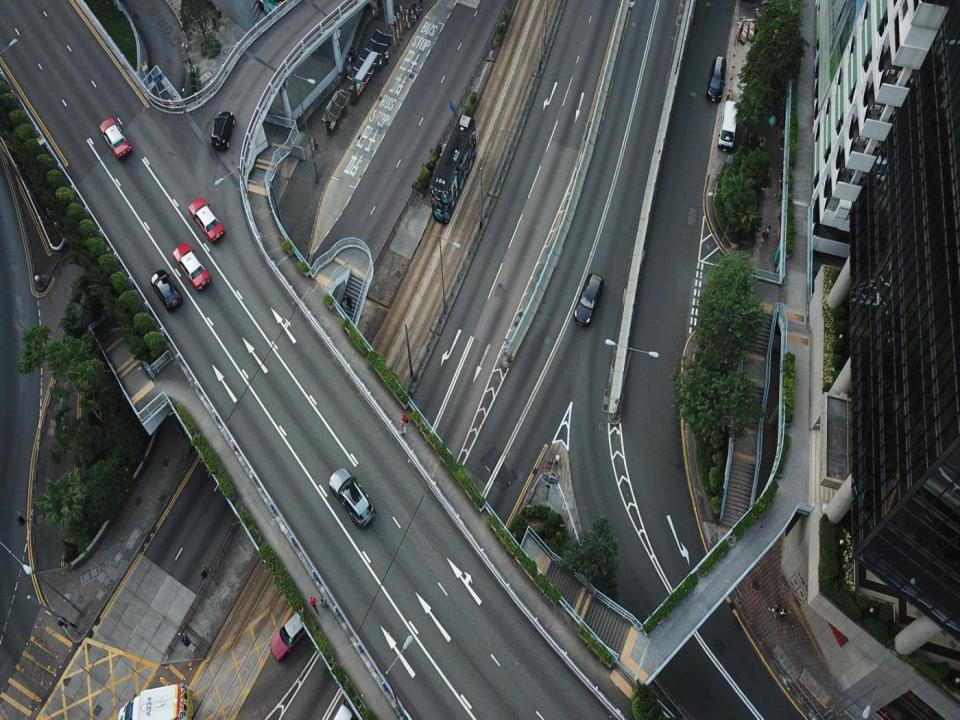bus: (428, 114, 477, 227), (717, 102, 739, 154)
car: (330, 466, 378, 530), (271, 606, 312, 662), (188, 195, 225, 246), (172, 245, 213, 290), (98, 116, 132, 165), (574, 274, 602, 331), (151, 269, 184, 314), (209, 109, 235, 154), (706, 52, 726, 108), (330, 697, 355, 719)
van: (113, 682, 196, 719)
